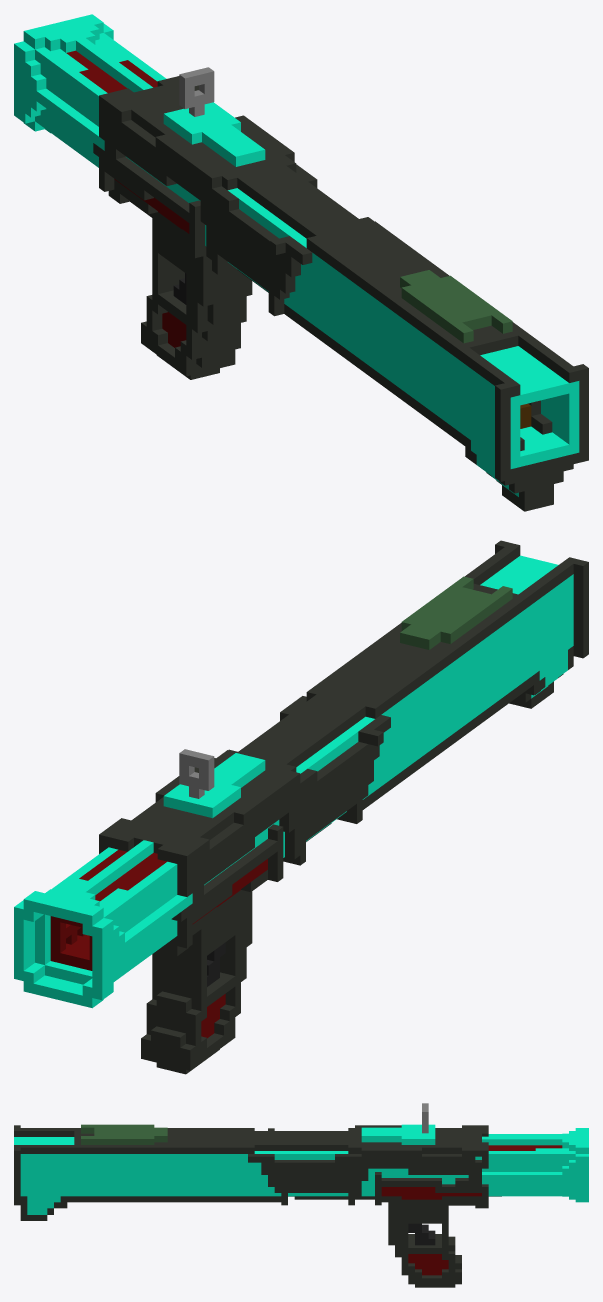
File: Bazuca.obj
The picture shows the model from 3 angles, top to bottom: view 1: azimuth 30°, elevation 25°; view 2: azimuth 150°, elevation 25°; view 3: azimuth 270°, elevation 25°; orthographic projection. The views are drawn at different scales.
Bounding box in the file's own units: 1 × 2.9 × 8.6.
Materials: 1 (1 with a texture image).
